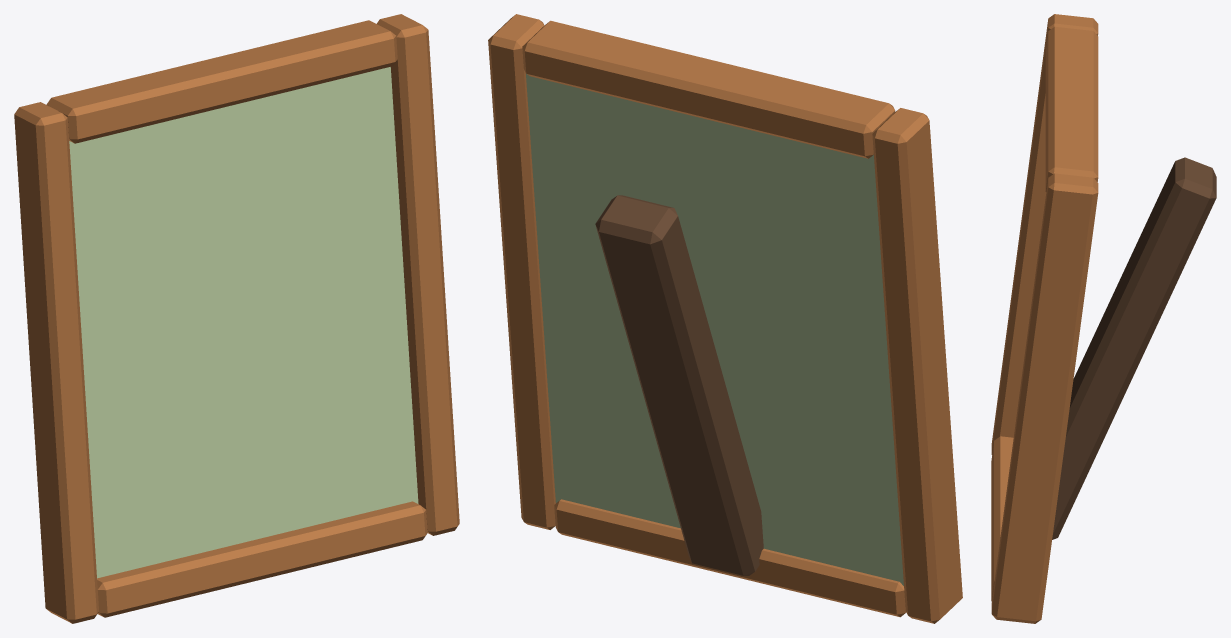
The model's file is frame.glb.
The picture shows the model from 3 angles, left to right: view 1: azimuth 30°, elevation 25°; view 2: azimuth 150°, elevation 25°; view 3: azimuth 270°, elevation 25°; orthographic projection. The views are drawn at different scales.
Parts seen in each view (by area): view 1: frame_picture, frame_side_-1, frame_side_1, frame_rail_1, frame_rail_-1; view 2: frame_picture, frame_easel, frame_side_-1, frame_rail_1, frame_side_1, frame_rail_-1; view 3: frame_side_1, frame_easel, frame_rail_1, frame_side_-1, frame_rail_-1.
Part boxes in pixels (bbox=[...]): frame_picture: bbox=[69, 67, 418, 578]; frame_side_-1: bbox=[14, 102, 98, 623]; frame_side_1: bbox=[376, 14, 459, 535]; frame_rail_1: bbox=[46, 20, 397, 143]; frame_rail_-1: bbox=[97, 501, 427, 617]; frame_picture: bbox=[526, 73, 903, 585]; frame_easel: bbox=[595, 195, 763, 575]; frame_side_-1: bbox=[872, 108, 962, 623]; frame_rail_1: bbox=[522, 20, 895, 158]; frame_side_1: bbox=[488, 14, 555, 529]; frame_rail_-1: bbox=[554, 499, 906, 617]; frame_side_1: bbox=[991, 173, 1098, 623]; frame_easel: bbox=[1052, 157, 1216, 539]; frame_rail_1: bbox=[1045, 26, 1098, 191]; frame_side_-1: bbox=[991, 14, 1098, 454]; frame_rail_-1: bbox=[991, 436, 1013, 601].
Bounding box in the file's own units: 0.22 × 0.2624 × 0.1205.
